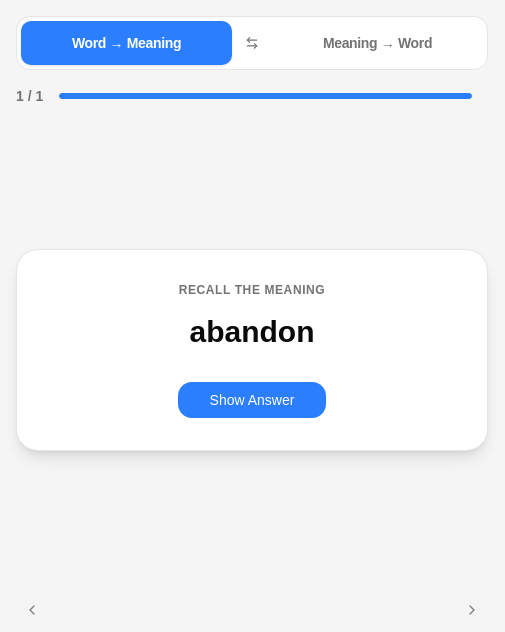
Test: ReviewPage › reverse mode (Meaning → Word) › shows the meaning as the prompt after switching to reverse mode
Expected: the heading "abandon" is shown, left=190, top=315, right=314, bottom=348
Click the button "Meaning → Word". click: (378, 43)
box: left=272, top=25, right=483, bottom=61
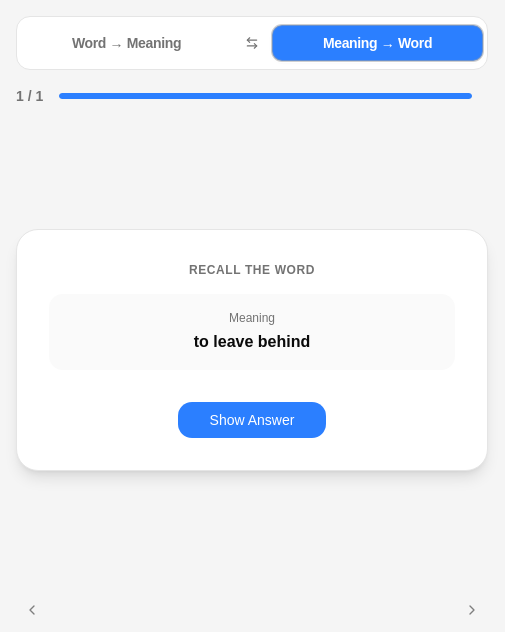
Expected: the text "to leave behind" is shown, left=194, top=333, right=310, bottom=350
Expected: the heading "abandon" is gone
